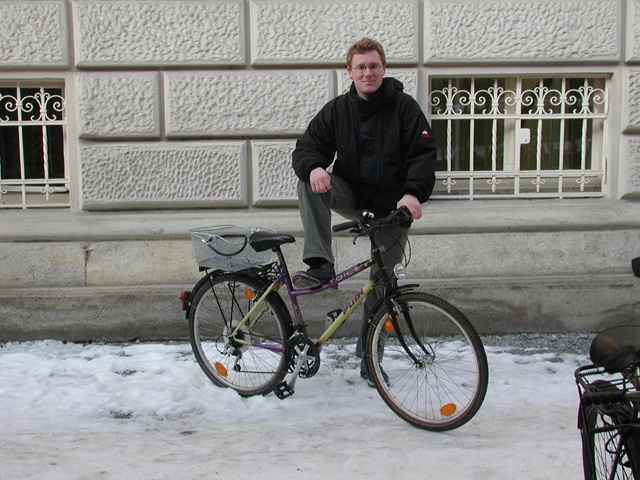person: (291, 37, 433, 390)
